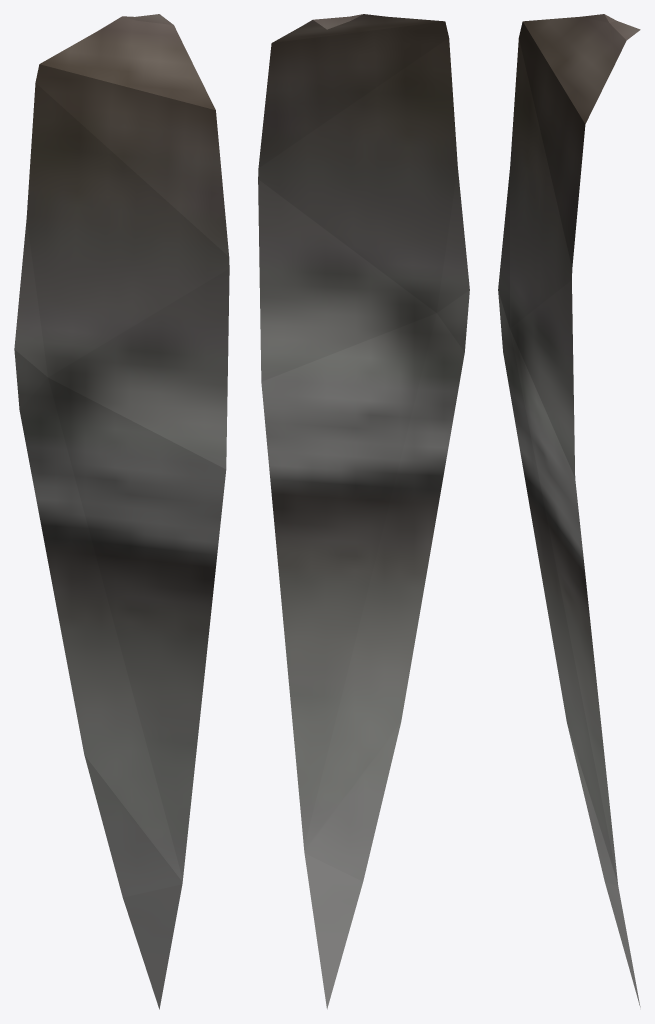
3 views of the same model, side by side, from view 1: azimuth 30°, elevation 25°; view 2: azimuth 210°, elevation 25°; view 3: azimuth 330°, elevation 25° (orthographic).
Size of the model in its own units: 0.0358 by 0.2361 by 0.0299.
Materials: 1 (1 with a texture image).
